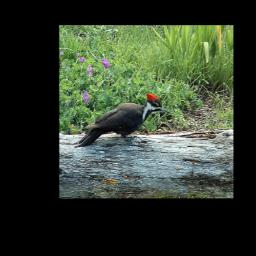Woodpecker: (74, 93, 170, 146)
